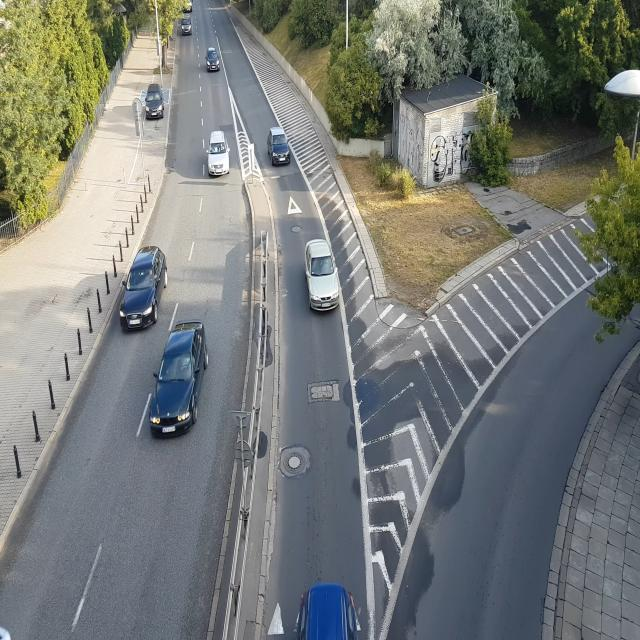car: (148, 313, 210, 438), (291, 554, 363, 640), (299, 225, 343, 322), (117, 241, 166, 328), (202, 124, 236, 180), (263, 120, 297, 169), (143, 79, 169, 125), (205, 46, 222, 77), (177, 17, 200, 38)
